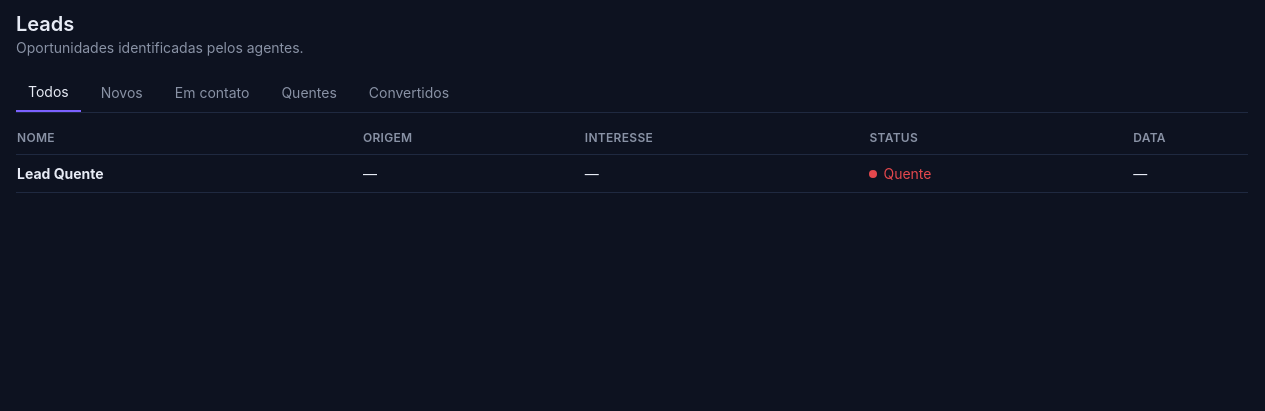
Test: SalesPanel › clicar numa linha com rascunho de contato expande a revisão real (Aprovar/Descartar)
Expected: the text "Mensagem real de contato" is not shown
Click the text "Lead Quente".
click(60, 173)  # box x1=17 y1=164 x2=104 y2=182
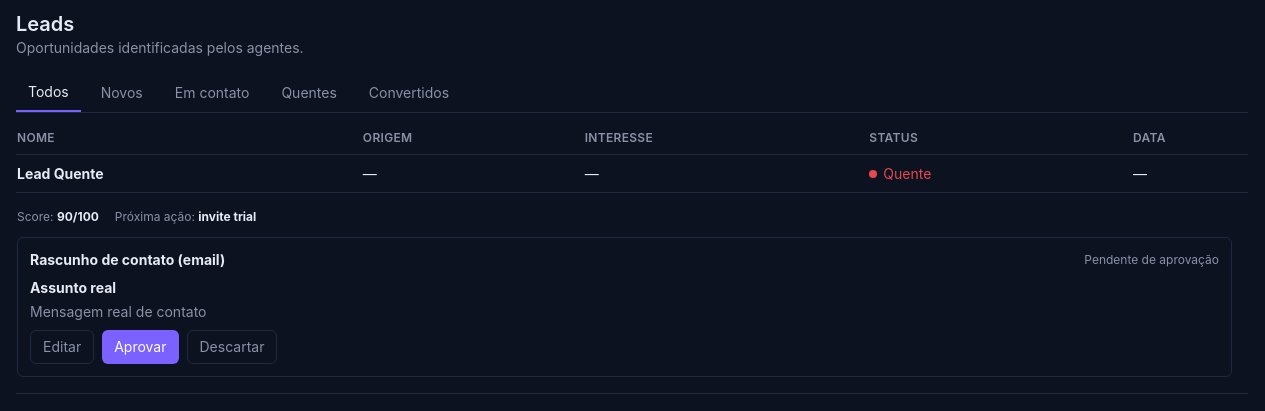
Now the text "Mensagem real de contato" is shown, box x1=30 y1=303 x2=206 y2=320
Now the button "Aprovar" is shown, box x1=102 y1=330 x2=178 y2=364
